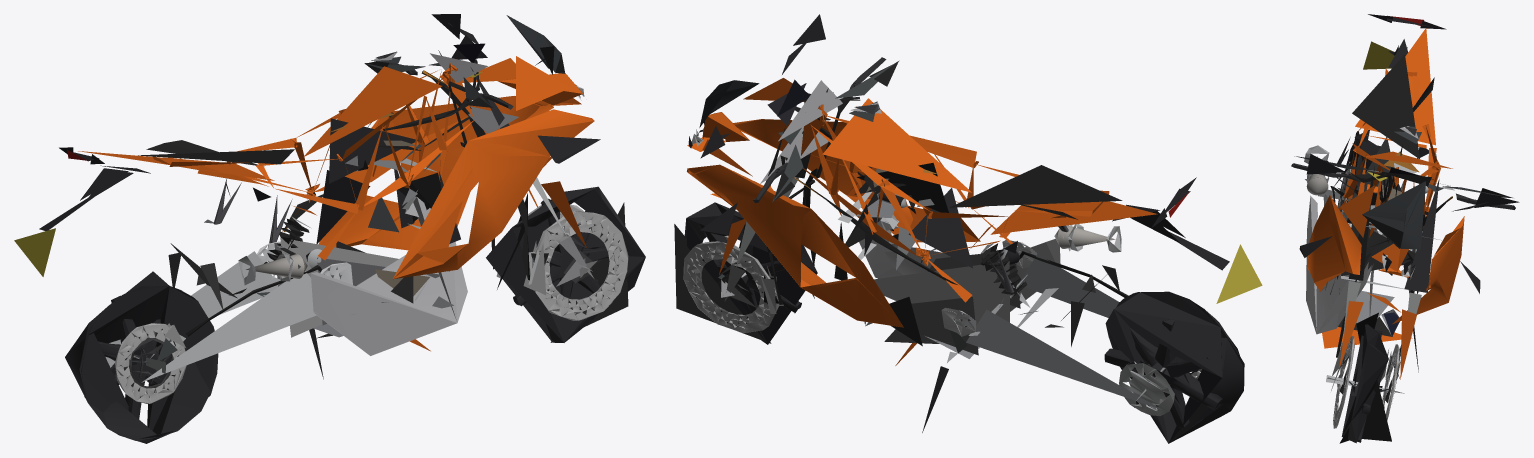
The model's file is SM_Prop_house_bike_2_LOD1.glb.
3 views of the same model, side by side, from view 1: azimuth 30°, elevation 25°; view 2: azimuth 150°, elevation 25°; view 3: azimuth 270°, elevation 25° (orthographic). The views are drawn at different scales.
Parts seen in each view (by area): view 1: SM_Prop_house_bike_2_LOD1; view 2: SM_Prop_house_bike_2_LOD1; view 3: SM_Prop_house_bike_2_LOD1.
Part boxes in pixels (bbox=[...]): SM_Prop_house_bike_2_LOD1: bbox=[14, 14, 645, 443]; SM_Prop_house_bike_2_LOD1: bbox=[674, 14, 1262, 443]; SM_Prop_house_bike_2_LOD1: bbox=[1291, 14, 1519, 443].
Size of the model in its own units: 1.99 by 1.08 by 0.7721.
